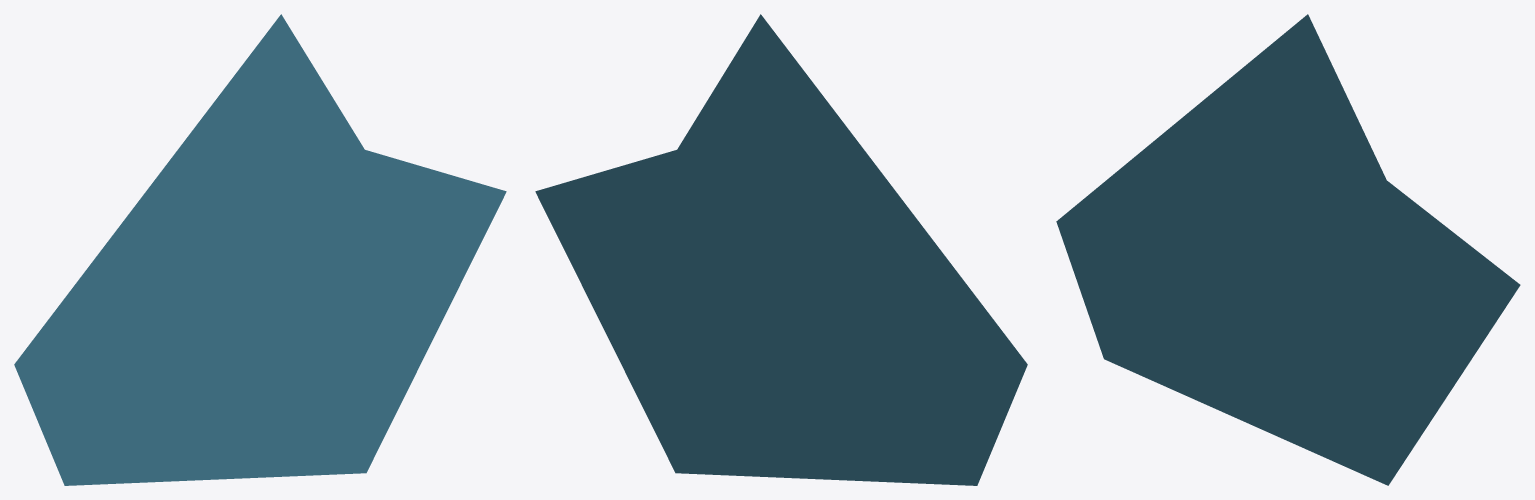
File: NexusA_Cloth_7.fbx
The picture shows the model from 3 angles, left to right: view 1: azimuth 30°, elevation 25°; view 2: azimuth 150°, elevation 25°; view 3: azimuth 330°, elevation 25°; orthographic projection. The views are drawn at different scales.
Visible parts, largest first — view 1: pasted__polySurface45; view 2: pasted__polySurface45; view 3: pasted__polySurface45.
Boxes of the visible parts, x1=… form: pasted__polySurface45: x1=14, y1=14, x2=506, y2=485; pasted__polySurface45: x1=535, y1=14, x2=1027, y2=485; pasted__polySurface45: x1=1056, y1=14, x2=1520, y2=485.
Size of the model in its own units: 46.57 by 43.36 by 1.65e-05.
